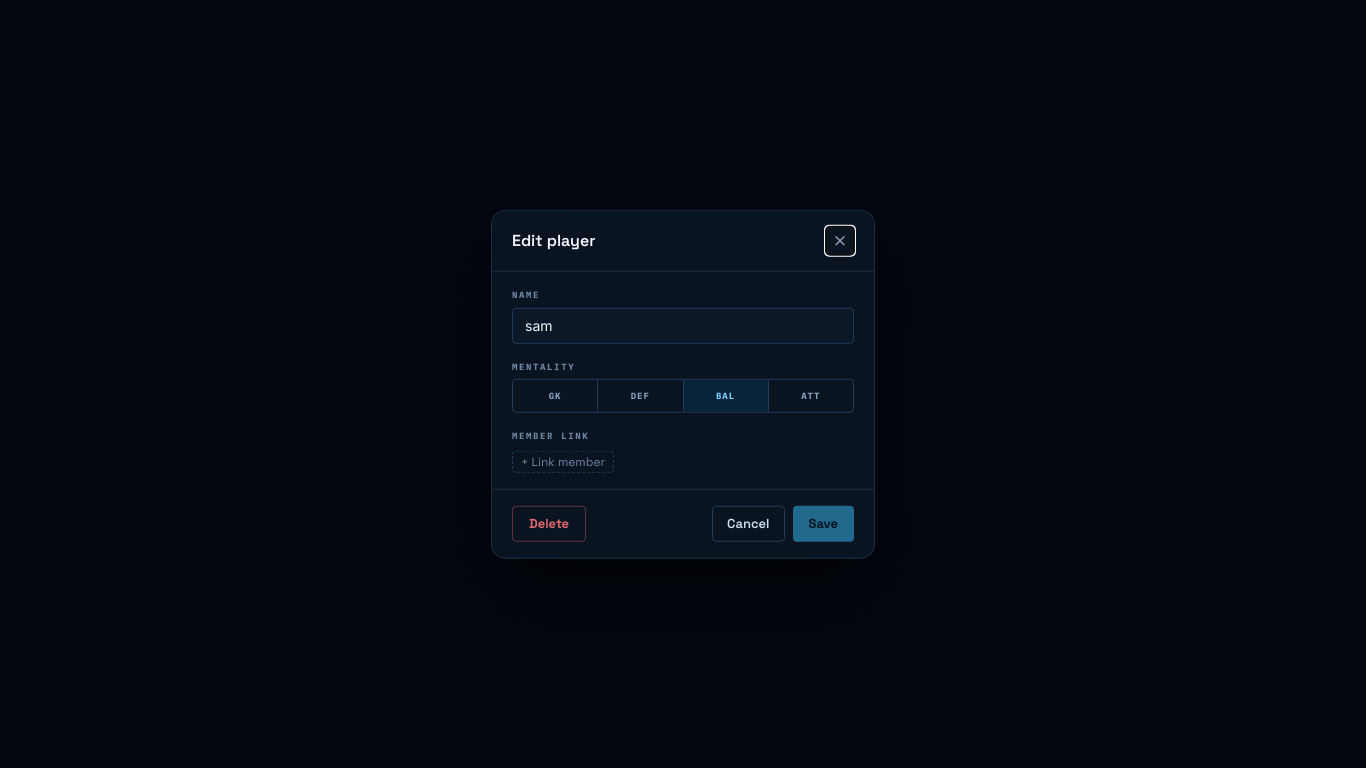
Test case: EditPlayerModal › allows a case-only rename
This screenshot has width=1366, height=768.
Replace the text in the field labelled "Name" with "Sam" at (683, 325), box [512, 307, 854, 343]
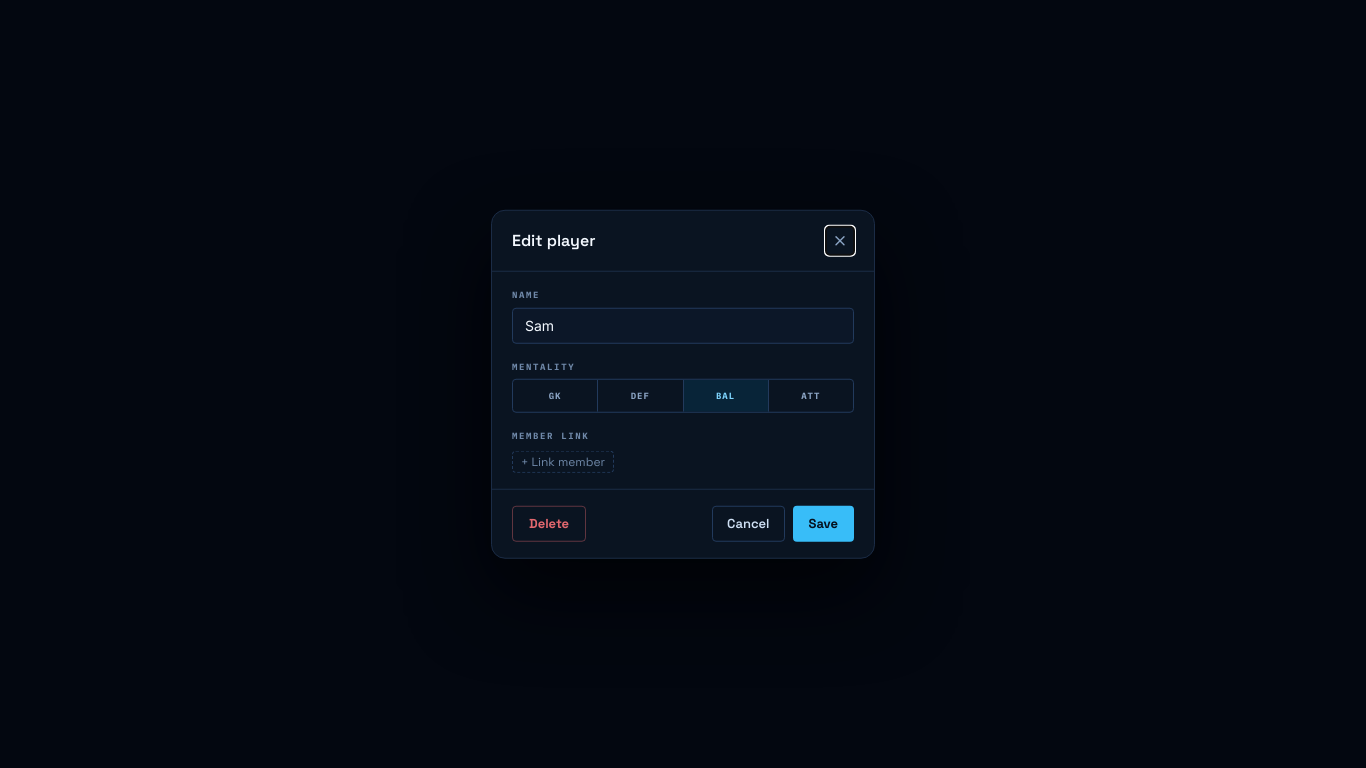
Result: the button "Save" is enabled at [792, 505, 854, 541]
